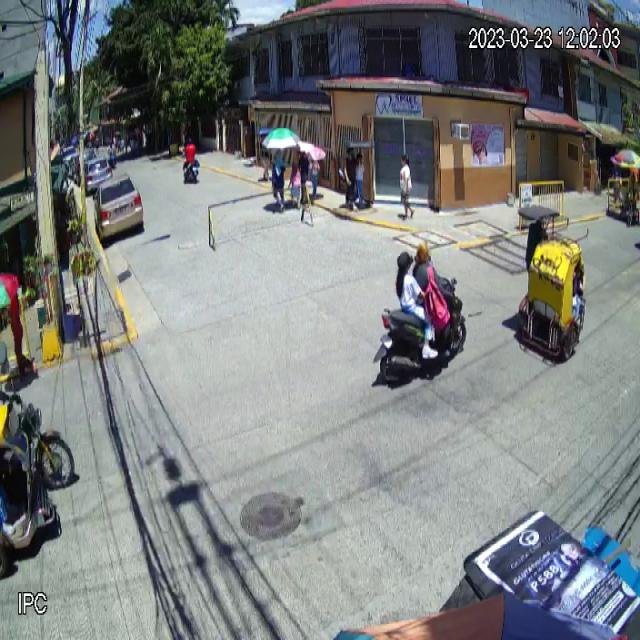Motorcycle: (378, 273, 464, 393)
